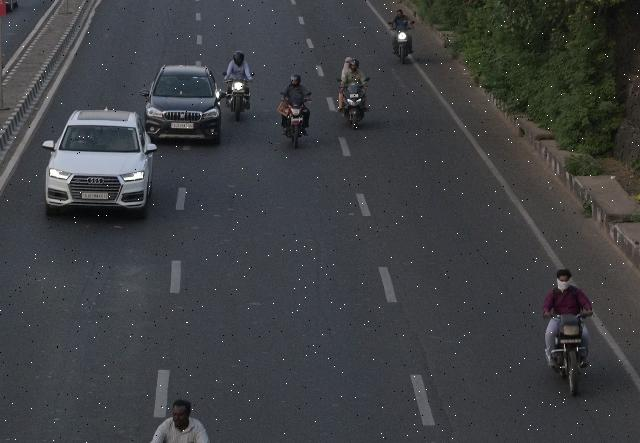With Helmet: (290, 72, 302, 88), (233, 50, 245, 64), (350, 59, 360, 73)
Without Helmet: (552, 266, 576, 288), (396, 10, 404, 18), (345, 57, 351, 67)
